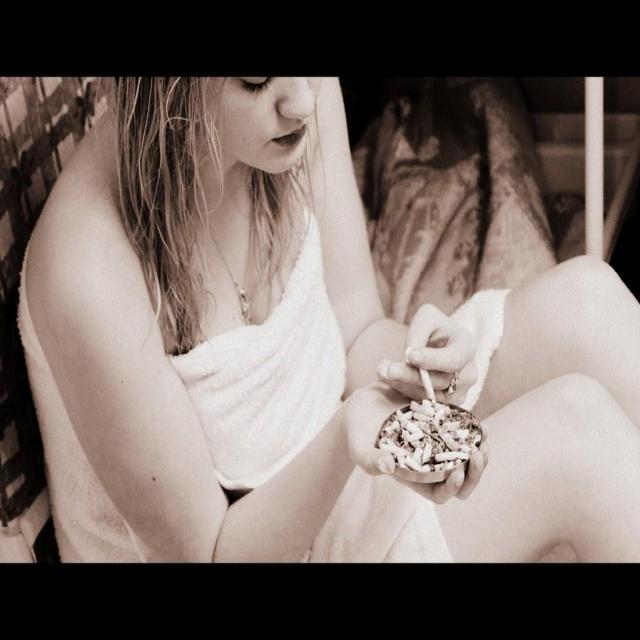Сигарета: (420, 368, 435, 402), (435, 449, 468, 463), (409, 401, 434, 417), (398, 413, 418, 431), (403, 457, 423, 472), (381, 442, 402, 456), (454, 428, 469, 436)
Тело: (33, 75, 636, 570)
